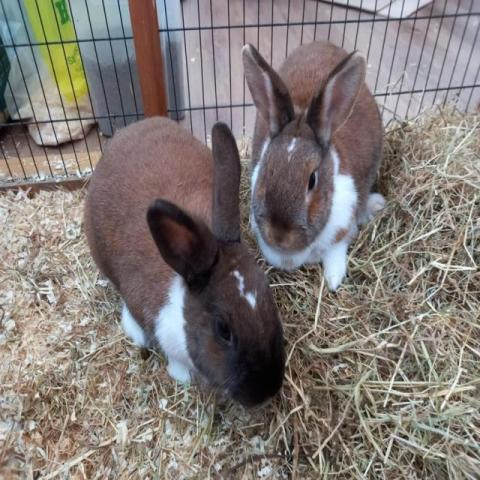small_animal: (81, 114, 287, 411), (239, 39, 387, 293)
